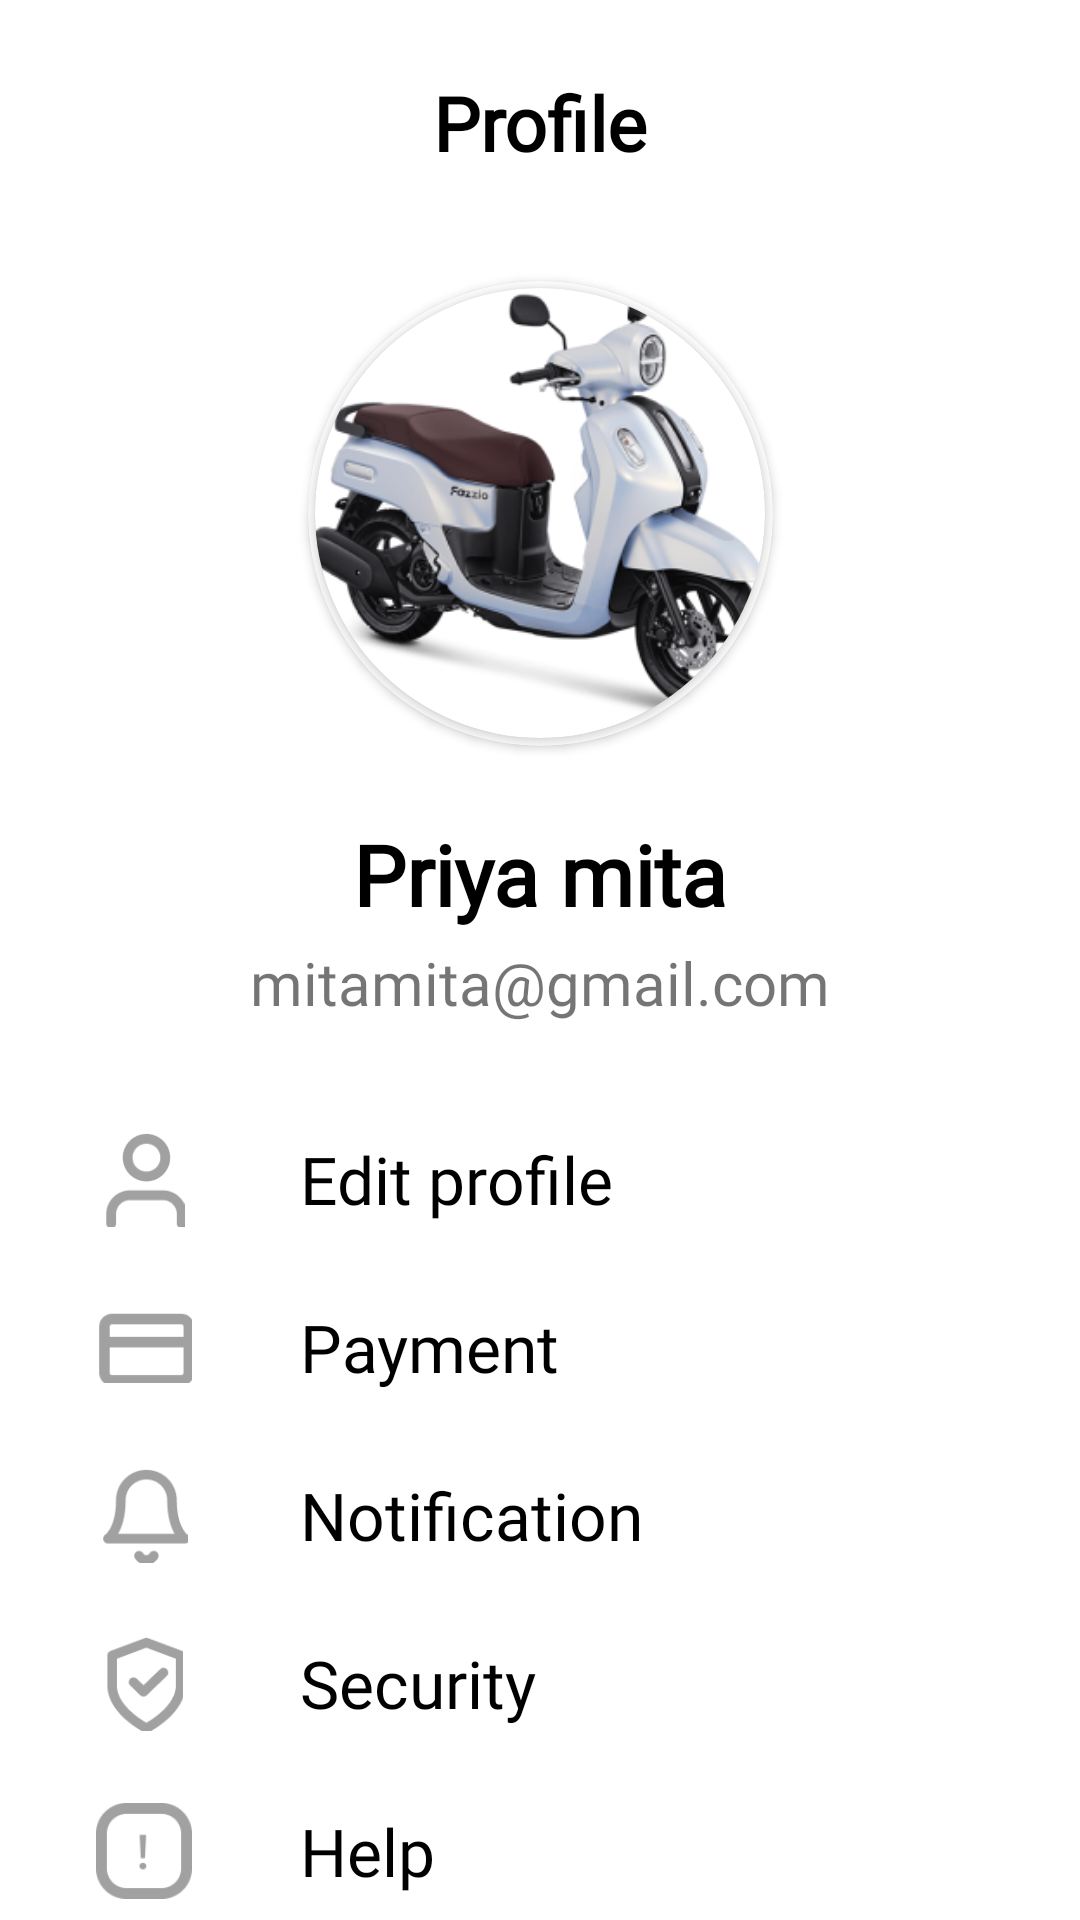

Icon bounding boxes for this 1080×1920 phone screenshot, format detection(x1, y1, x2, y2):
profile person: detection(106, 1134, 185, 1227)
